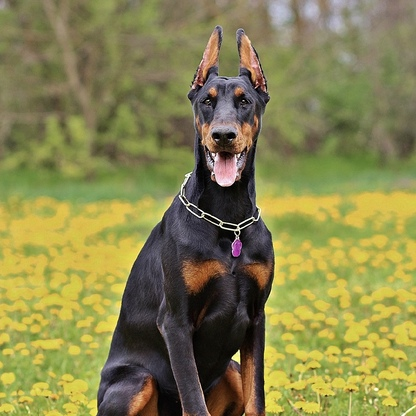doberman: (95, 24, 282, 416)
